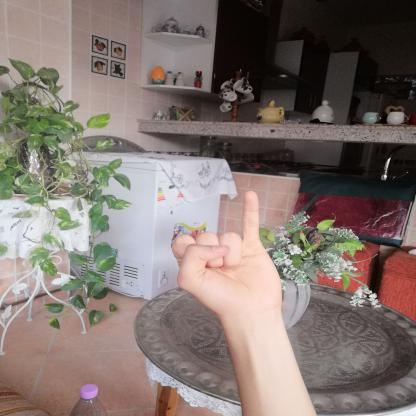MEEM: (157, 185, 290, 328)
